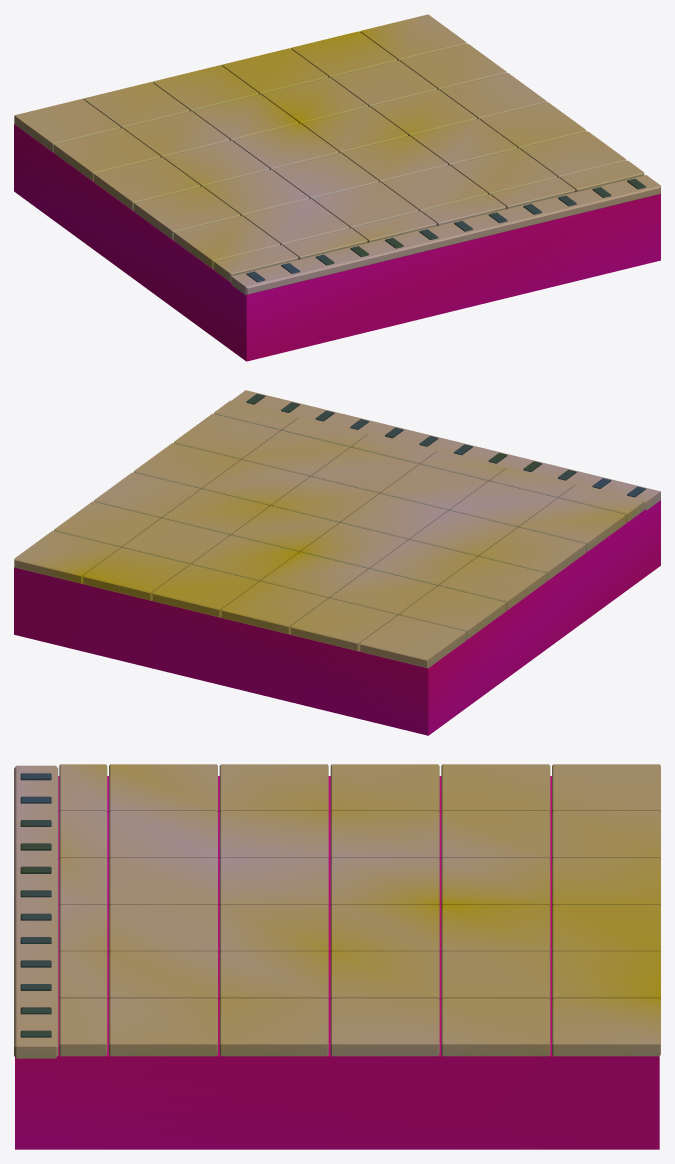
Rendered from GS_Apron_6m.glb.
3 views of the same model, one above another, from view 1: azimuth 30°, elevation 25°; view 2: azimuth 150°, elevation 25°; view 3: azimuth 270°, elevation 25° (orthographic). The views are drawn at different scales.
Visible parts, largest first — view 1: GS_Apron_6m; view 2: GS_Apron_6m; view 3: GS_Apron_6m.
Boxes of the visible parts, <box> form: GS_Apron_6m: <box>14,14,660,361</box>; GS_Apron_6m: <box>14,390,660,735</box>; GS_Apron_6m: <box>14,764,660,1149</box>.
Size of the model in its own units: 6 by 1.05 by 5.84.
